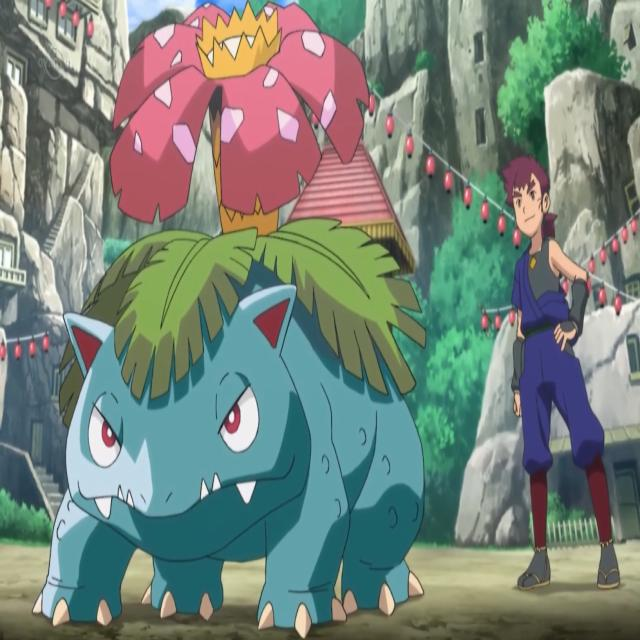Venusaur: (44, 11, 420, 629)
